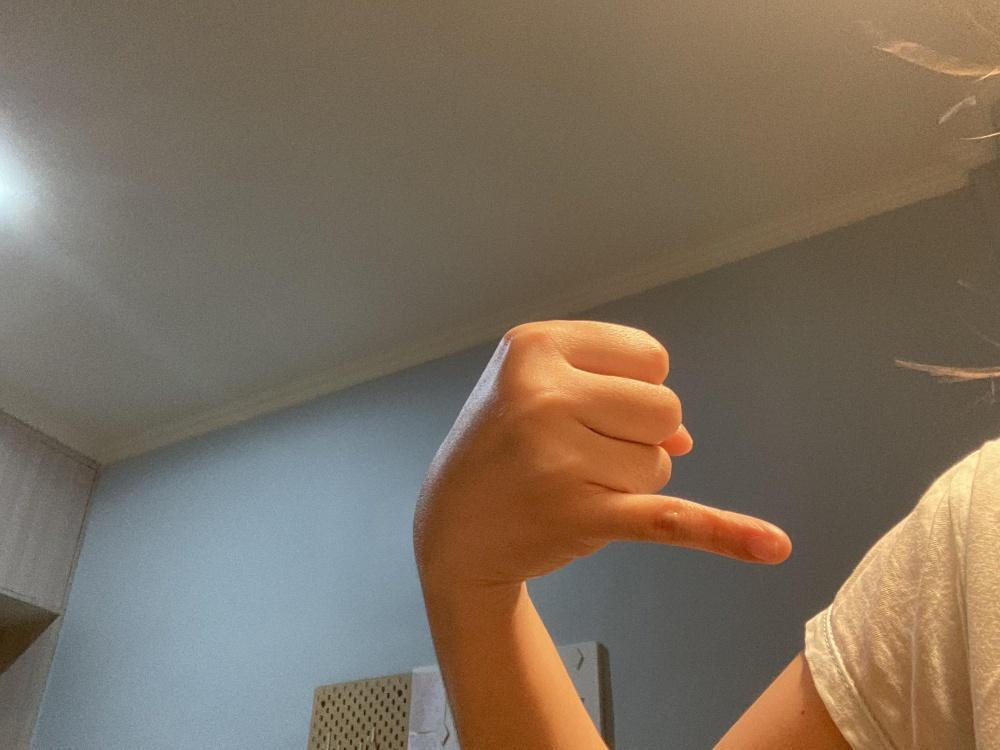j: (412, 318, 792, 584)
